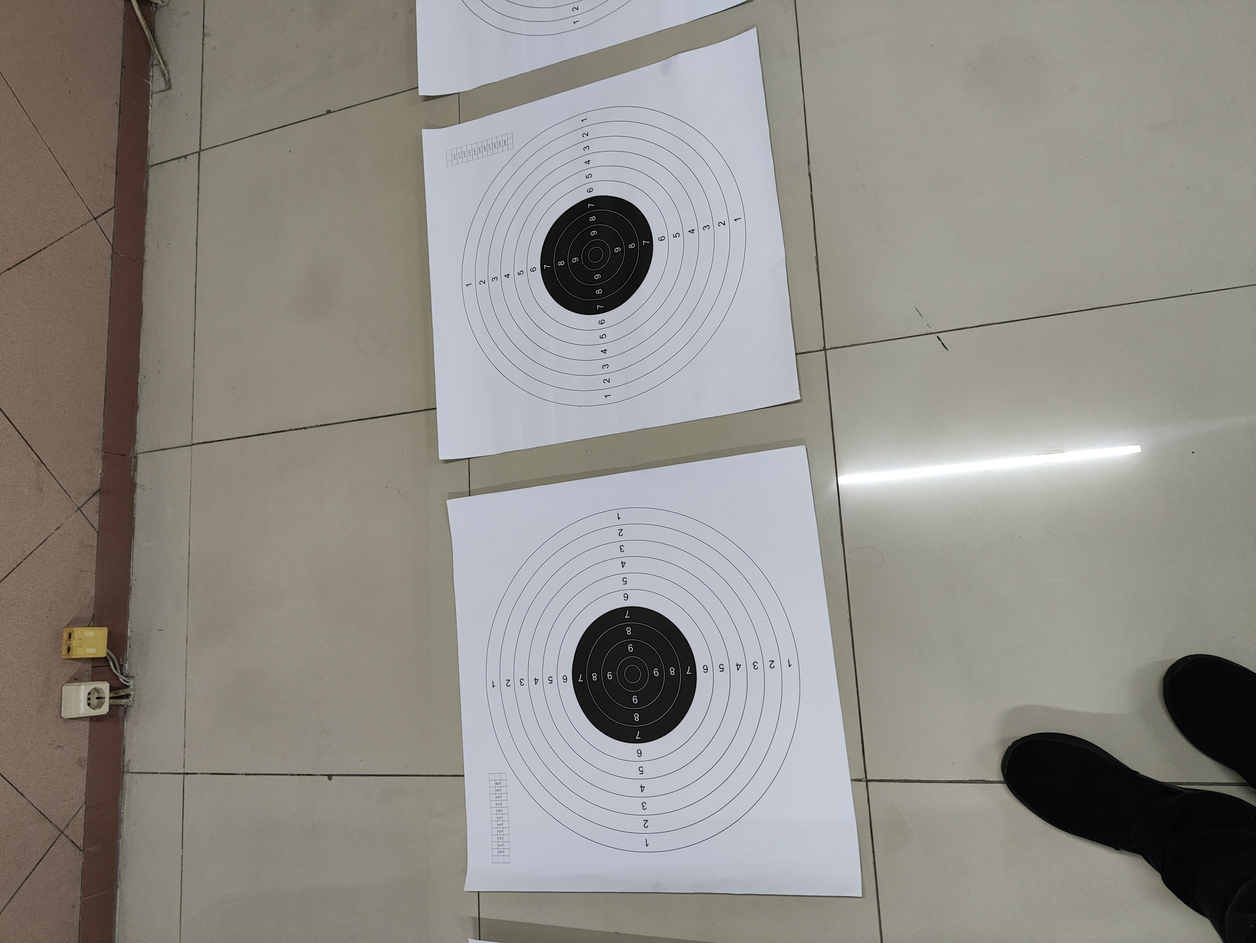target: (464, 497, 823, 875), (435, 109, 771, 424)
